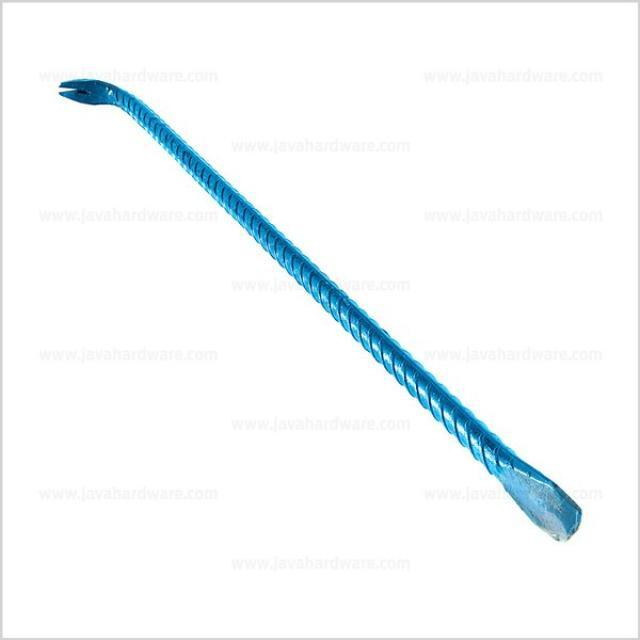Linggis: (56, 69, 589, 558)
